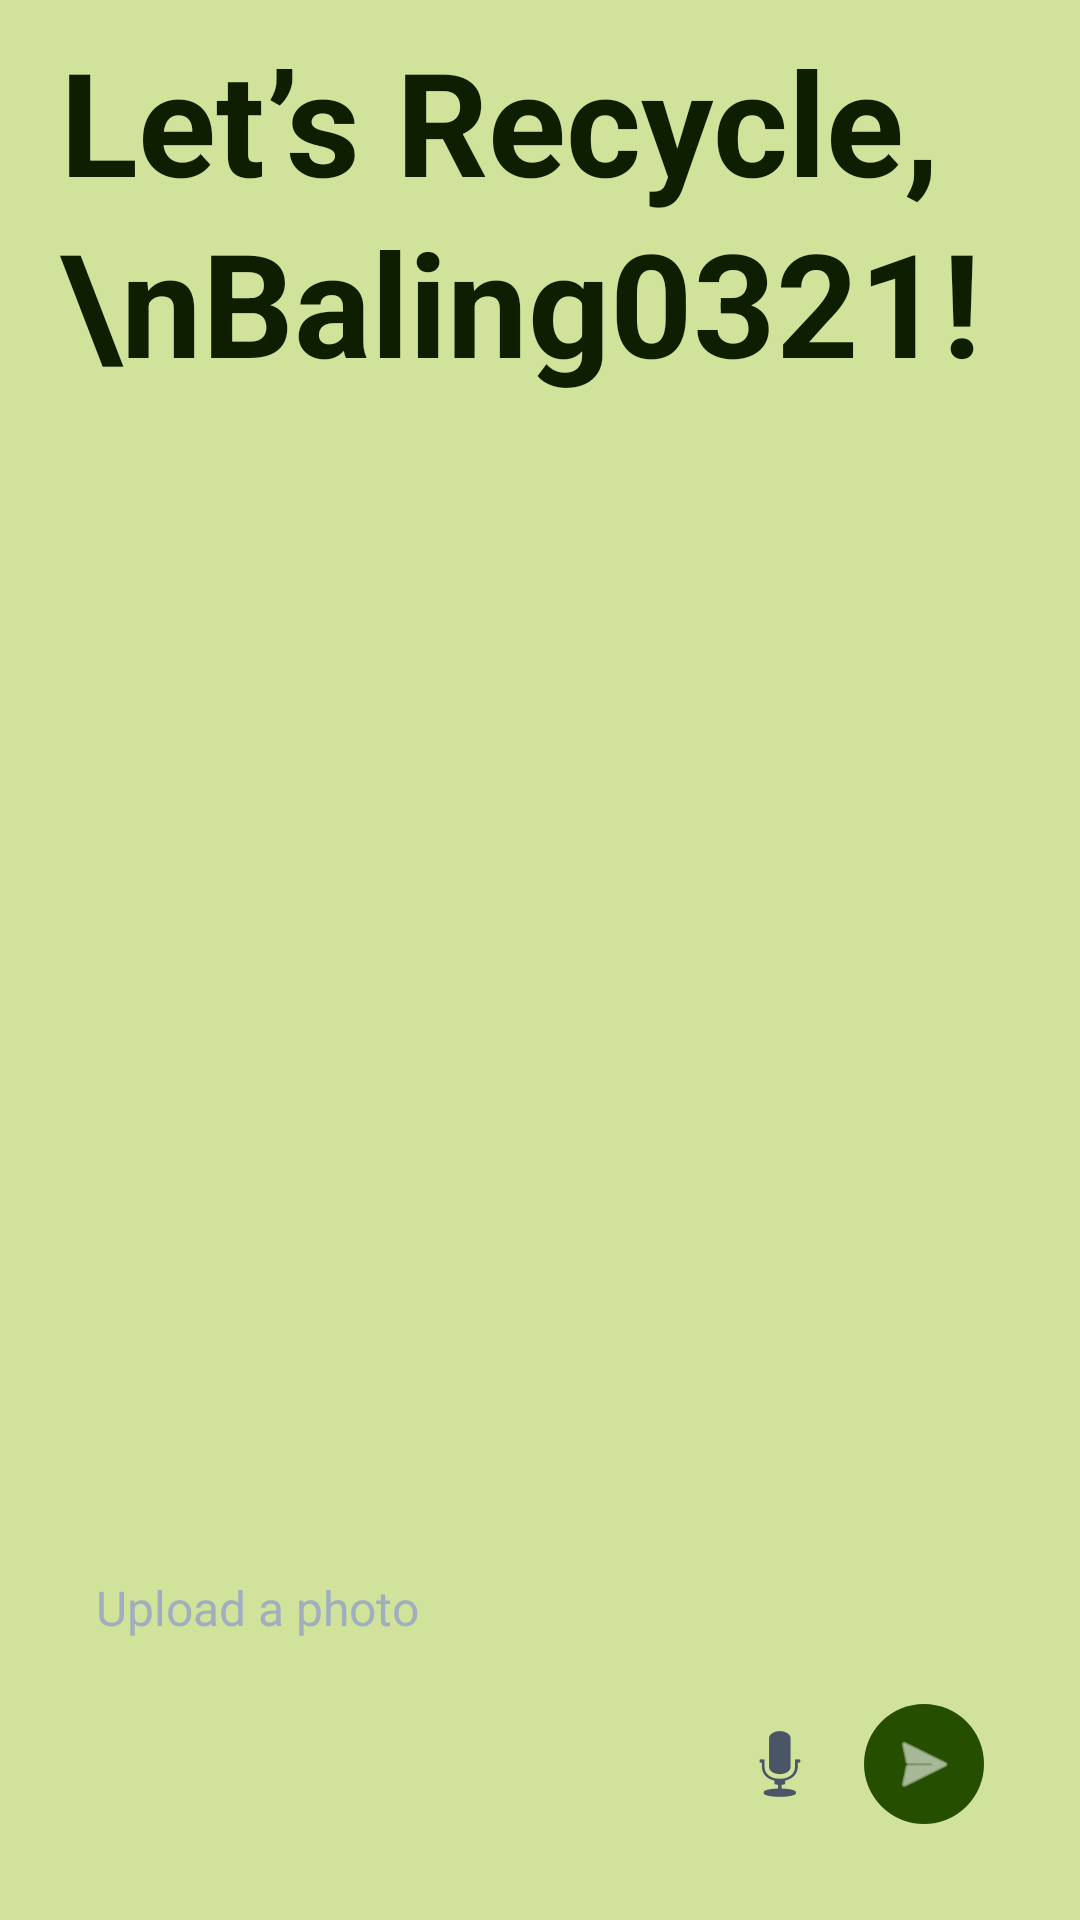

Where to tap for icons on this 1080 x 1920 app screen, as [x,y]:
Send: [924,1764]
Voice Input: [780,1764]
